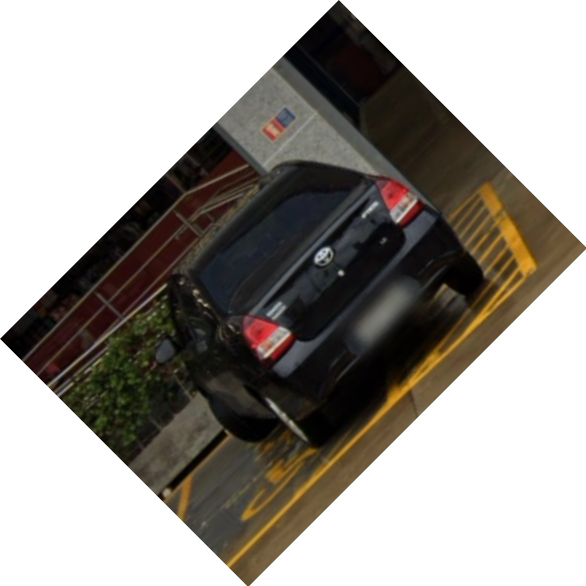car: (148, 155, 492, 452)
